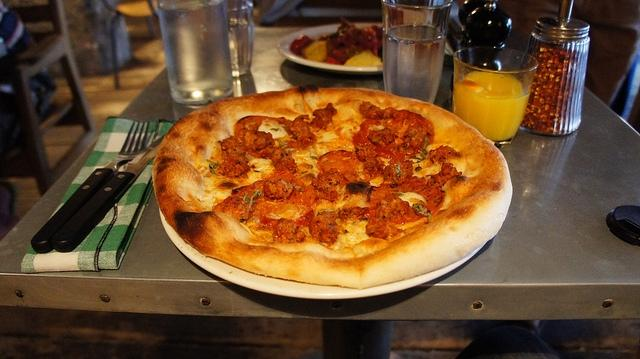hot pepper: (518, 2, 590, 138)
